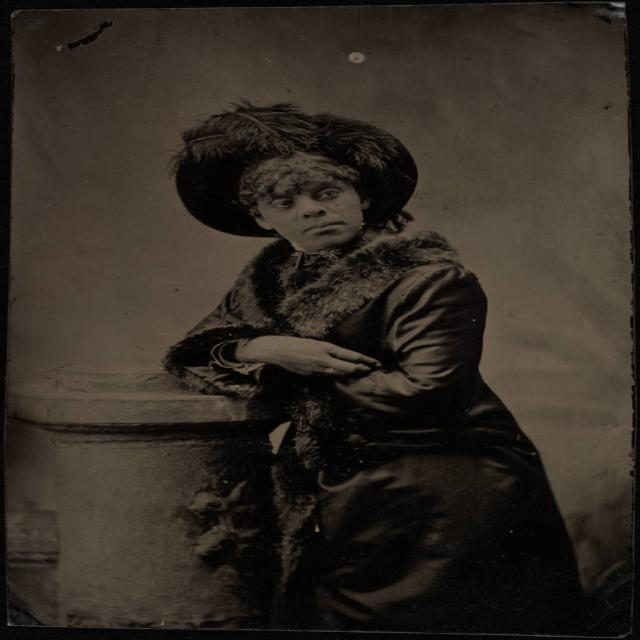Hat: (170, 98, 420, 240)
